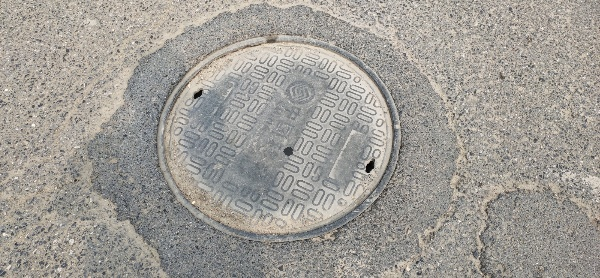well: (155, 34, 403, 236)
